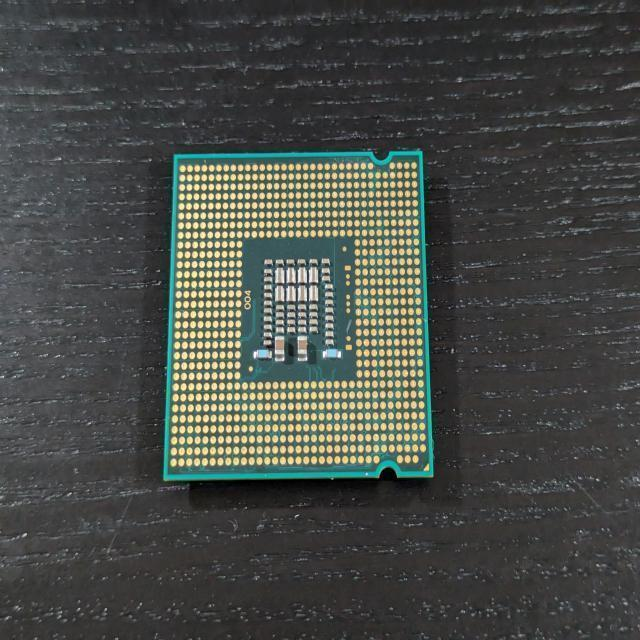CPU: (162, 149, 434, 483)
